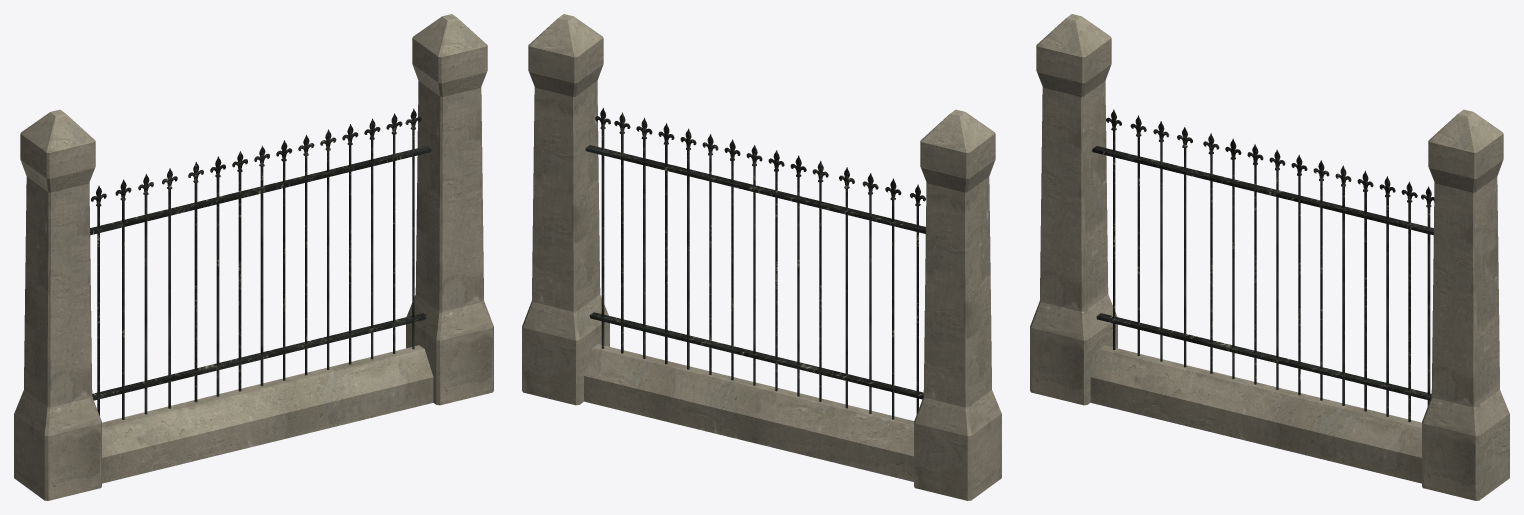
The model's file is fence.obj.
3 views of the same model, side by side, from view 1: azimuth 30°, elevation 25°; view 2: azimuth 150°, elevation 25°; view 3: azimuth 330°, elevation 25° (orthographic).
Parts seen in each view (by area): view 1: Pfosten_1__0; view 2: Pfosten_1__0; view 3: Pfosten_1__0.
Part boxes in pixels (bbox=[...]): Pfosten_1__0: bbox=[14, 14, 493, 500]; Pfosten_1__0: bbox=[522, 14, 1001, 500]; Pfosten_1__0: bbox=[1030, 14, 1509, 500].
Bounding box in the file's own units: 60 × 47.15 × 7.67.
Materials: 1 (1 with a texture image).
